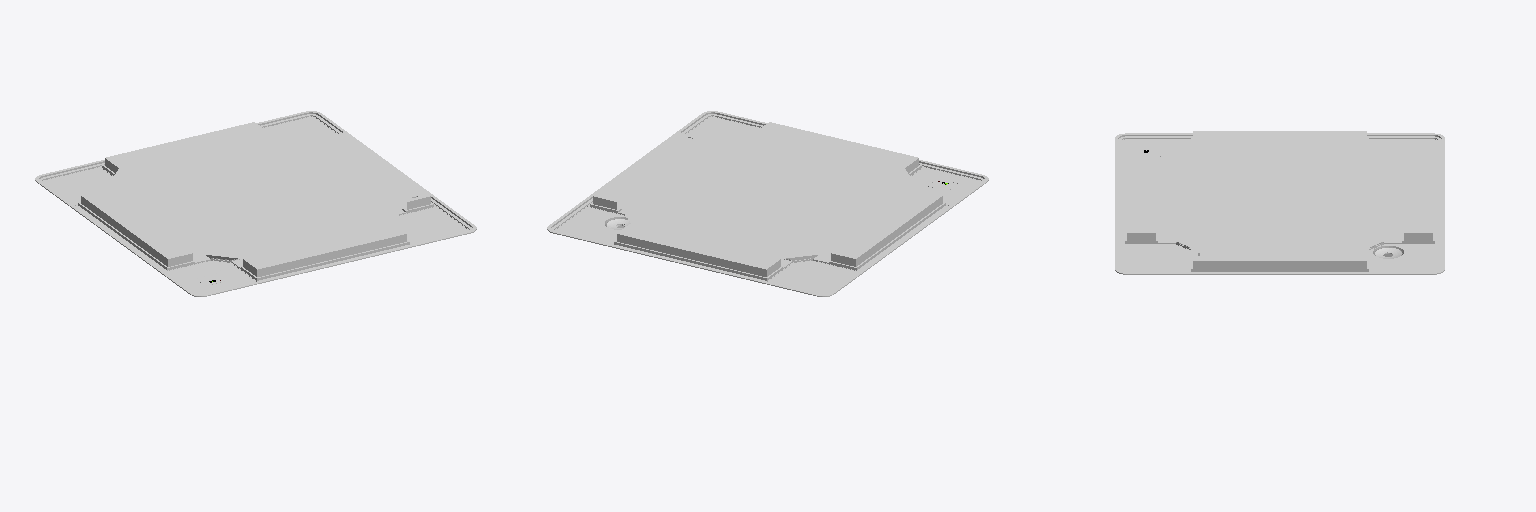
The model's file is aircondtioner.obj.
3 views of the same model, side by side, from view 1: azimuth 30°, elevation 25°; view 2: azimuth 150°, elevation 25°; view 3: azimuth 270°, elevation 25° (orthographic).
Visible parts, largest first — view 1: aircondtioner; view 2: aircondtioner; view 3: aircondtioner.
Part boxes in pixels (left/top/right/bottom): aircondtioner: left=35, top=111, right=476, bottom=296; aircondtioner: left=547, top=111, right=988, bottom=296; aircondtioner: left=1115, top=131, right=1444, bottom=274.
Bounding box in the file's own units: 37.4 × 15.26 × 37.58.